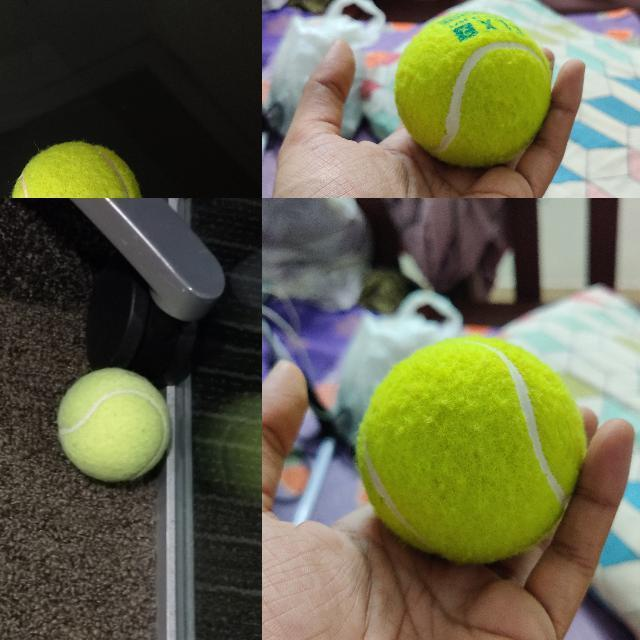tennis-ball: (355, 333, 587, 565), (394, 10, 551, 166), (55, 367, 171, 484), (9, 141, 143, 197)
